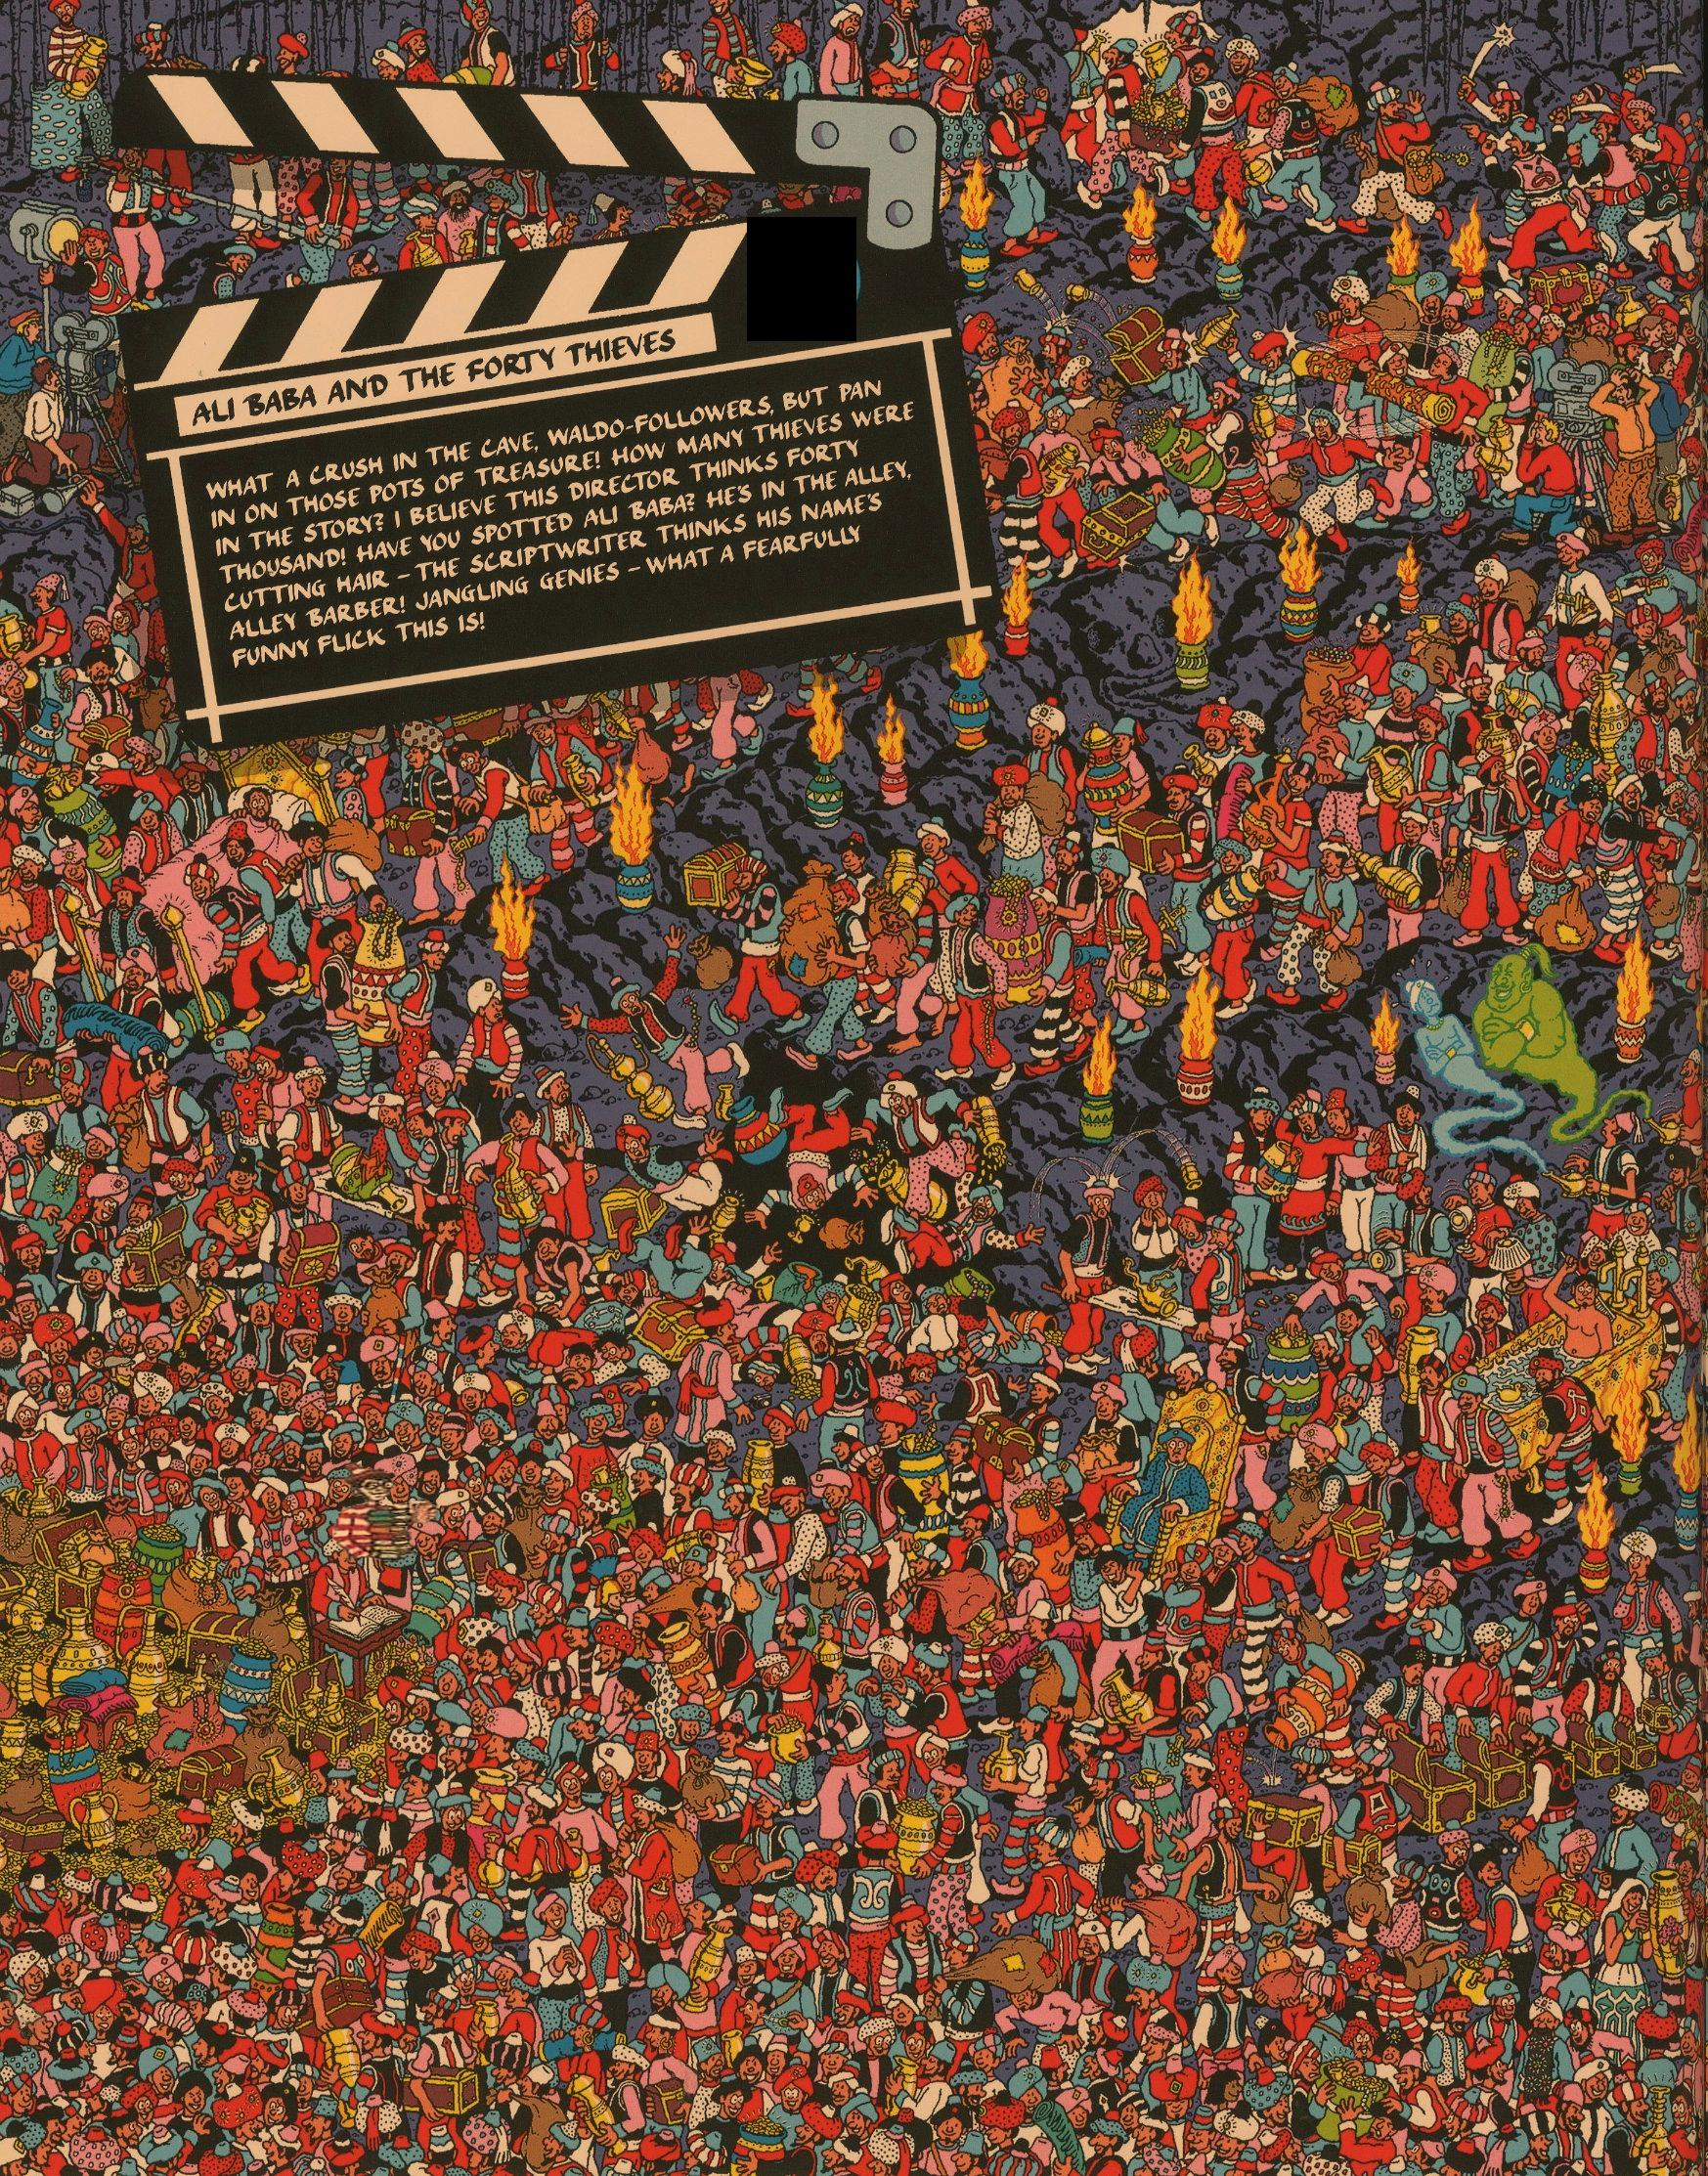waldos: (332, 1457, 442, 1581)
